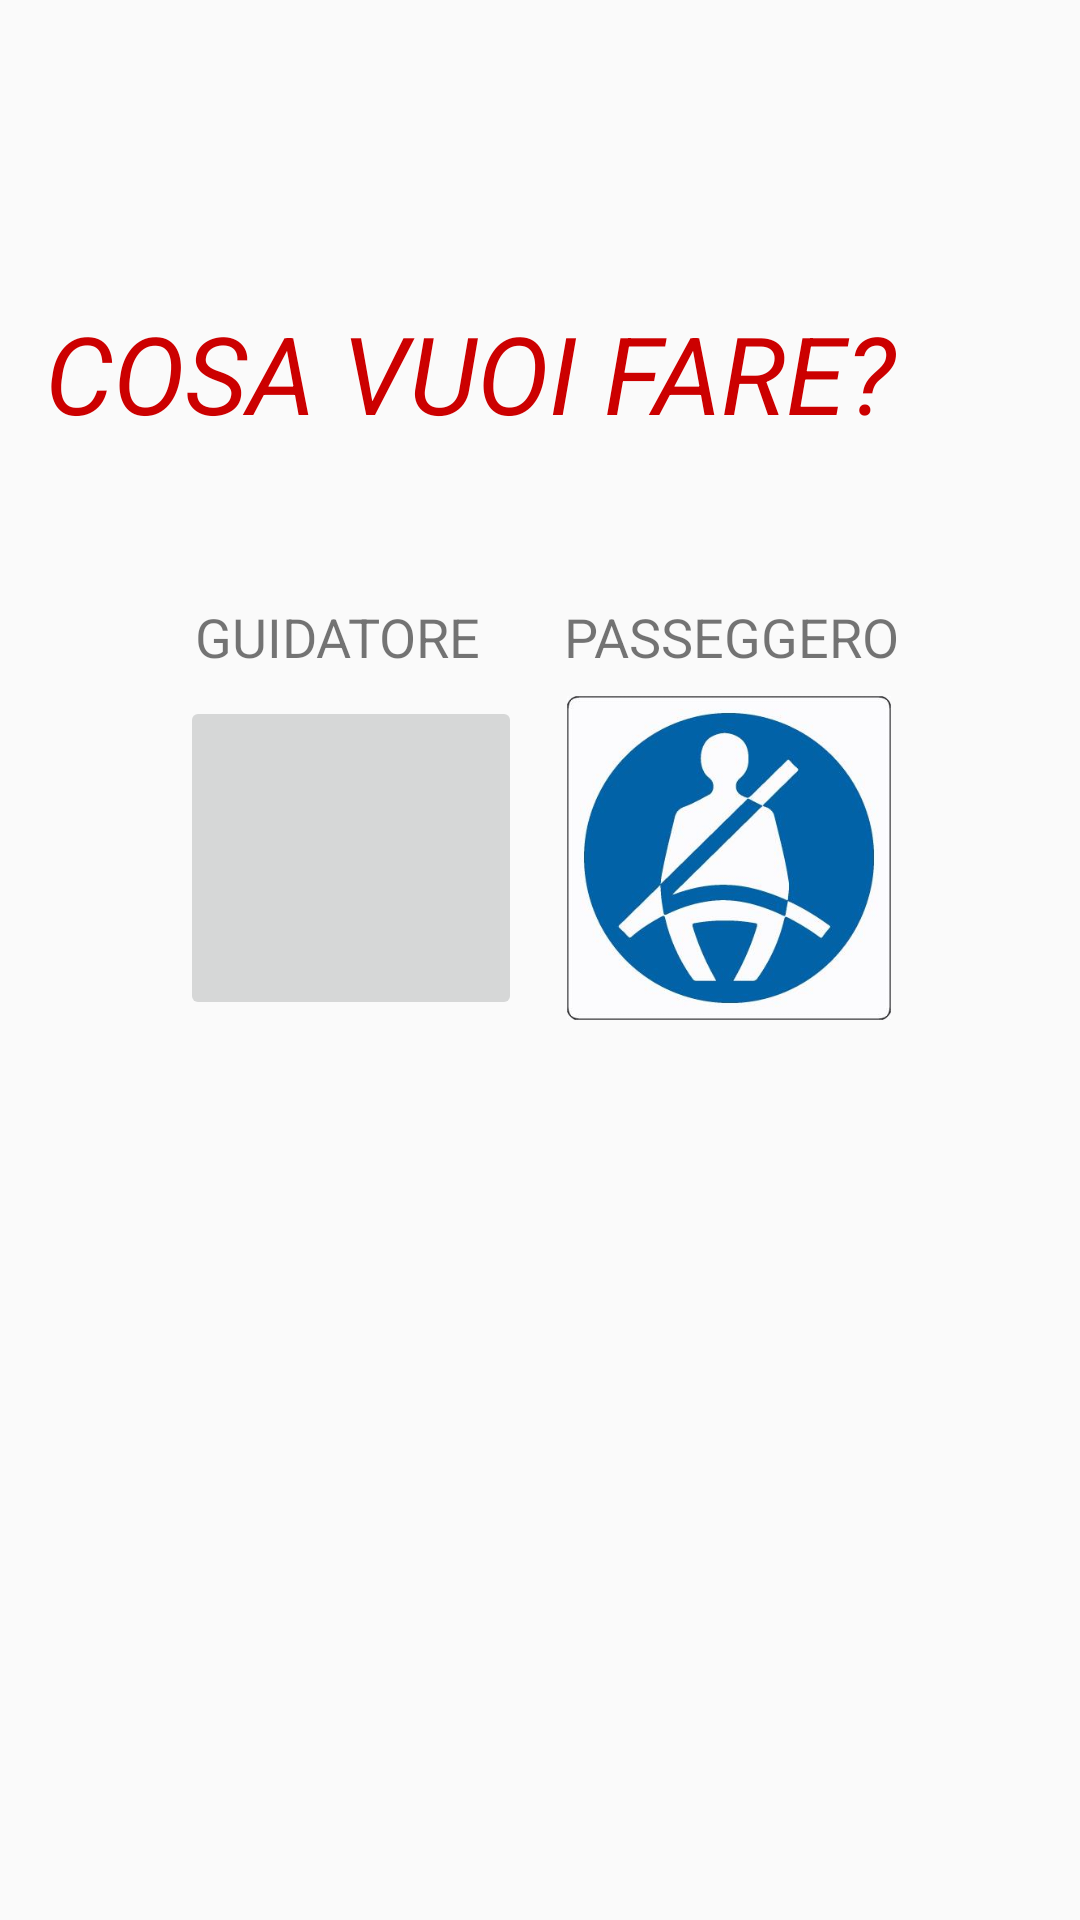

Locate icon controls on the screen. Image size 1080 × 1920, boxes as detection(x1, y1, x2, y2).
cinture: detection(567, 696, 891, 1020)
